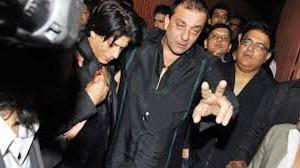Drunk: (172, 9, 202, 54), (98, 29, 129, 64), (239, 31, 267, 69)
